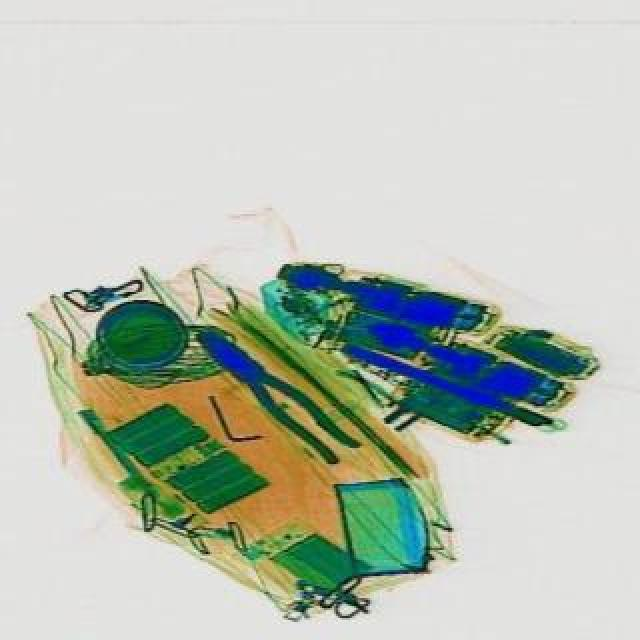wrench: (180, 316, 360, 470)
